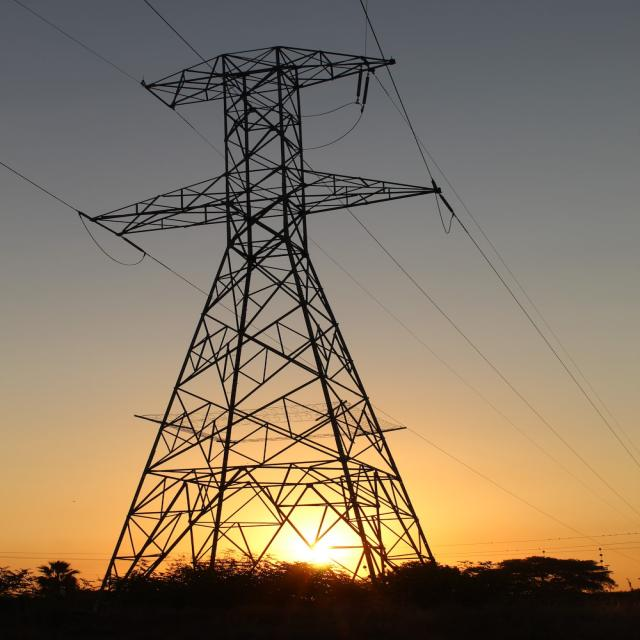transmission tower: (45, 4, 525, 616)
